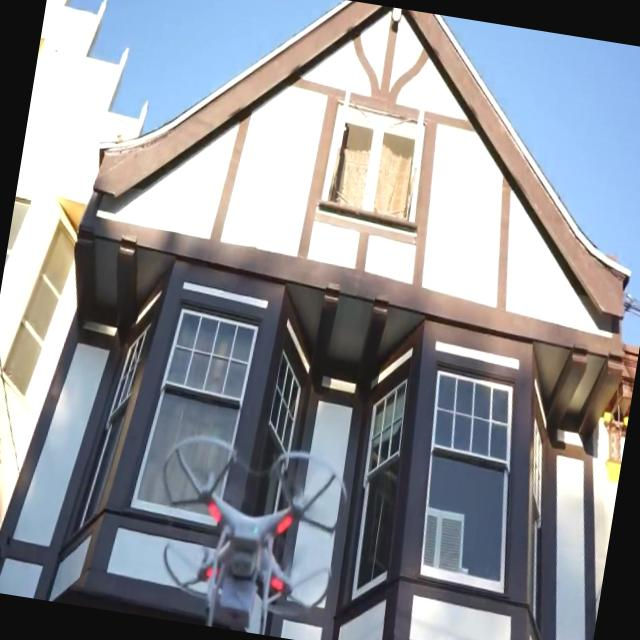drone: (139, 427, 352, 640)
